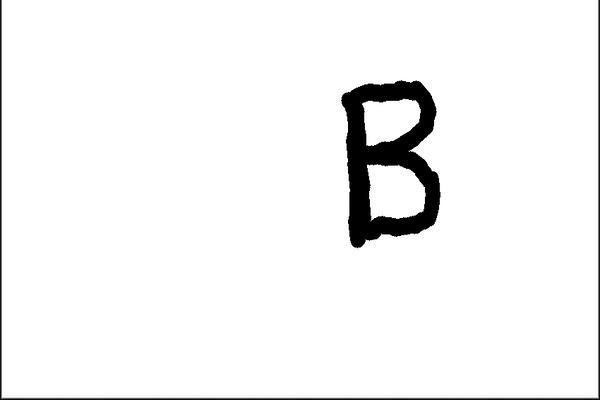B: (329, 71, 450, 254)
